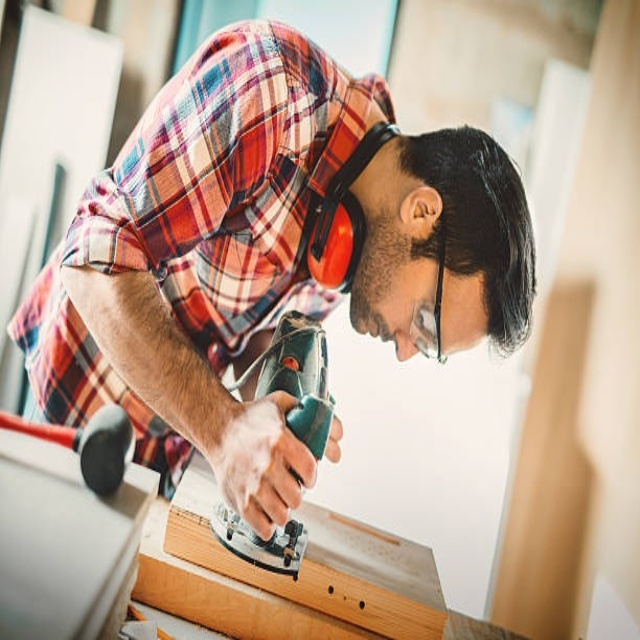Gafas: (417, 202, 446, 367)
Sin_guantes: (211, 392, 328, 534)
Sin_mascara: (352, 298, 404, 362)
